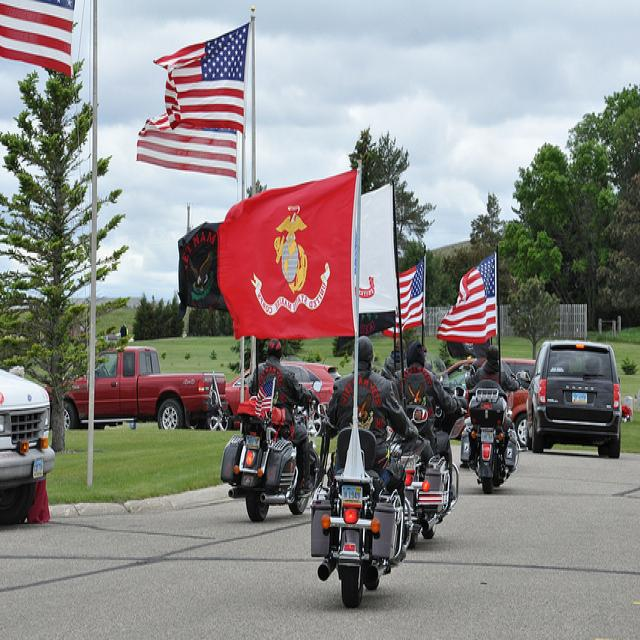motor: (307, 427, 406, 615), (219, 416, 336, 520), (391, 432, 459, 540), (461, 389, 518, 498)
